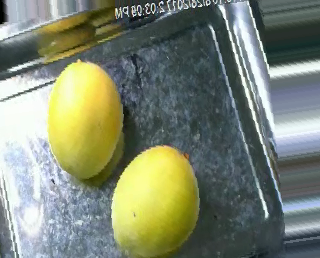Mango: (110, 143, 205, 255), (44, 59, 125, 177)
